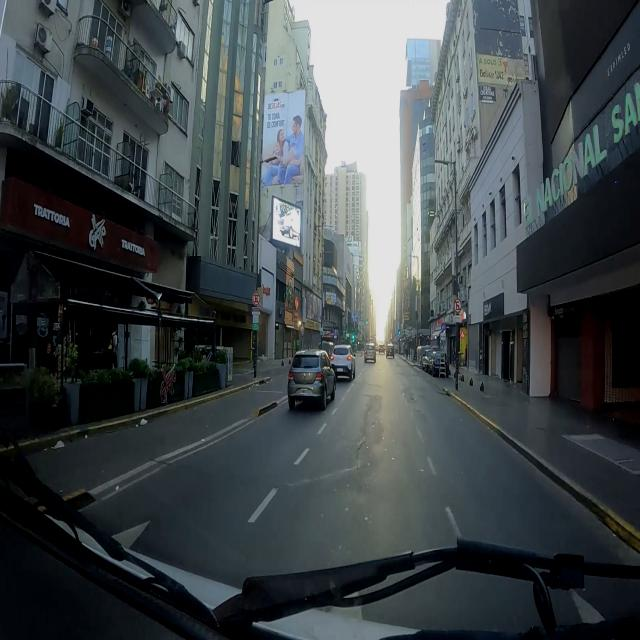car: (288, 350, 335, 410), (330, 345, 355, 379), (364, 343, 376, 362), (386, 343, 394, 359)
